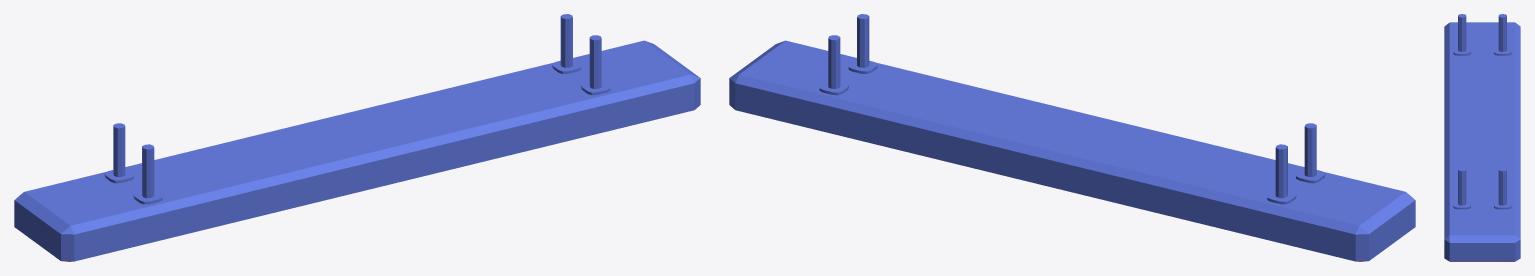
The model's file is AssetsIluminaçao.fbx_LampadaRetangular.fbx.
3 renders of one model, left to right at view 1: azimuth 30°, elevation 25°; view 2: azimuth 150°, elevation 25°; view 3: azimuth 270°, elevation 25°, orthographic. The views are drawn at different scales.
Visible parts, largest first — view 1: LuminariaRetangular; view 2: LuminariaRetangular; view 3: LuminariaRetangular.
Boxes of the visible parts, x1,y1,x2,y2 form: LuminariaRetangular: (14,14,700,261); LuminariaRetangular: (729,14,1415,261); LuminariaRetangular: (1444,14,1520,261).
Bounding box in the file's own units: 172 × 24.31 × 25.26.
